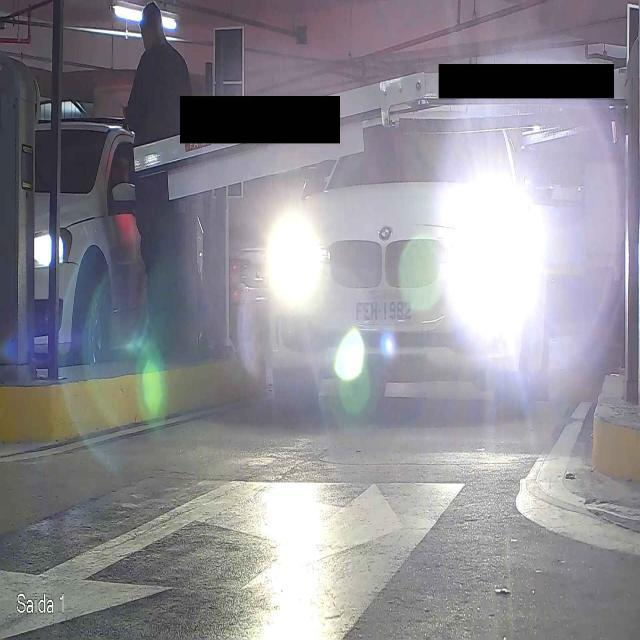old_plate: (350, 294, 414, 324)
